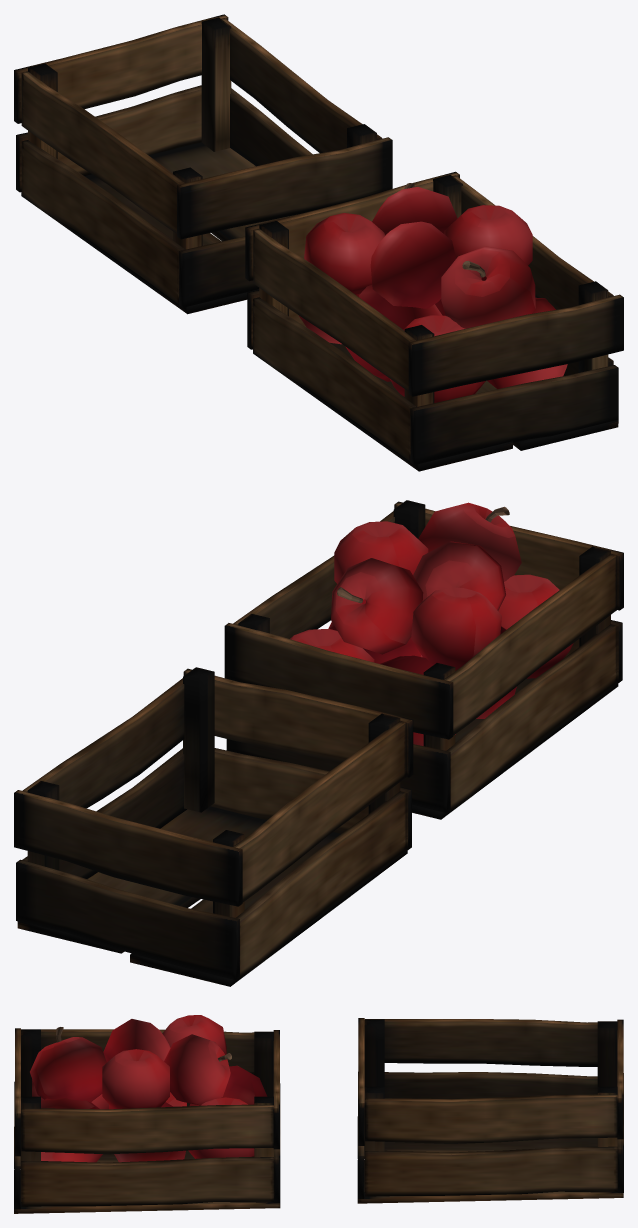
File: apple_crates.fbx
3 renders of one model, top to bottom at view 1: azimuth 30°, elevation 25°; view 2: azimuth 150°, elevation 25°; view 3: azimuth 270°, elevation 25°, orthographic. The views are drawn at different scales.
Visible parts, largest first — view 1: crate_000, crate_001; view 2: crate_001, crate_000; view 3: crate_000, crate_001.
Boxes of the visible parts, x1,y1,x2,y2 form: crate_000: (245,171,623,471); crate_001: (14,14,392,314); crate_001: (14,667,413,986); crate_000: (224,500,623,819); crate_000: (14,1015,280,1213); crate_001: (357,1018,623,1203).
Size of the model in its own units: 28.63 by 21.09 by 82.13.
2 materials, 2 textured.
